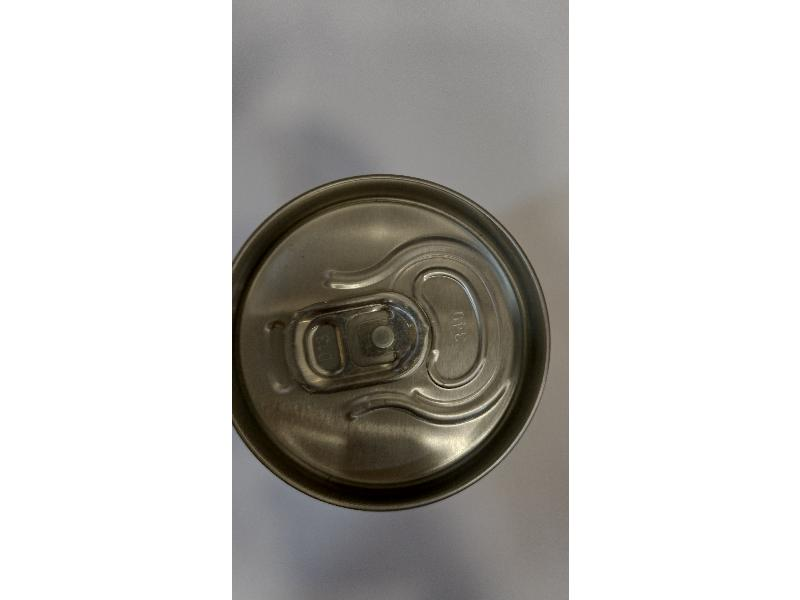can: (233, 166, 555, 513)
